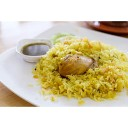briyani: (42, 43, 124, 99)
